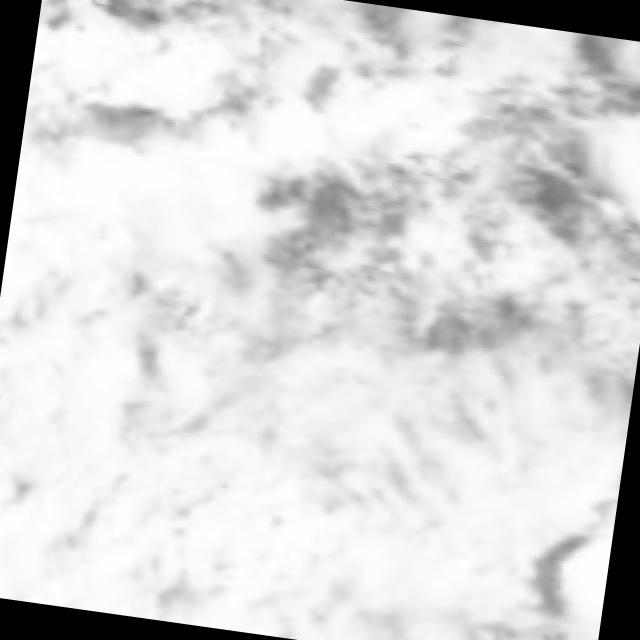CB: (0, 367, 421, 640), (10, 157, 267, 276)
